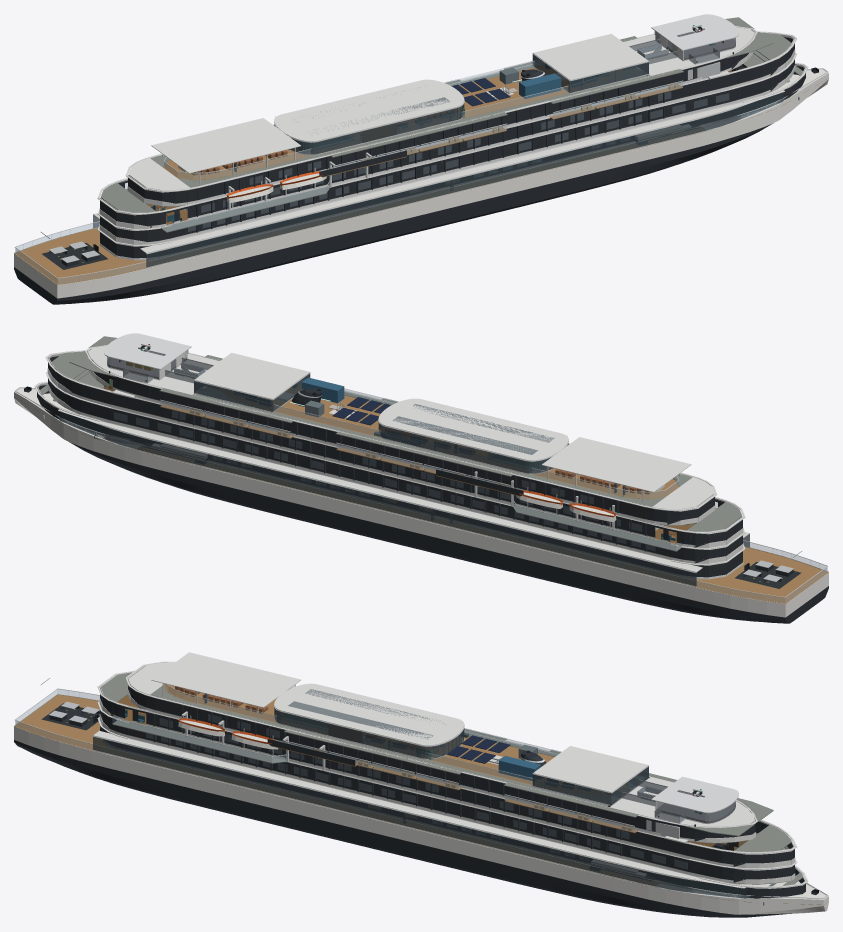
File: vessel_blender.glb
3 renders of one model, top to bottom at view 1: azimuth 30°, elevation 25°; view 2: azimuth 150°, elevation 25°; view 3: azimuth 330°, elevation 25°, orthographic.
Parts seen in each view (by area): view 1: корпус_надводный_борт, корпус_подводная_часть, галерея_остекление_л, остекление__средняя, остекление__верхняя, остекление__шлюпочная, атриум_крыша, настил_тик__главная, надстройка_борта__средняя, навес_кормовой, надстройка_борта__шлюпочная, галерея_крыша_л (+26 smaller); view 2: корпус_надводный_борт, корпус_подводная_часть, галерея_остекление_п, остекление__средняя, остекление__верхняя, остекление__шлюпочная, атриум_крыша, настил_тик__главная, надстройка_борта__средняя, навес_кормовой, надстройка_борта__шлюпочная, галерея_крыша_п (+27 smaller); view 3: корпус_надводный_борт, корпус_подводная_часть, галерея_остекление_л, остекление__средняя, остекление__шлюпочная, остекление__верхняя, атриум_крыша, надстройка_борта__средняя, настил_тик__главная, навес_кормовой, надстройка_борта__шлюпочная, галерея_крыша_л (+30 smaller).
Part boxes in pixels (bbox=[...]): корпус_надводный_борт: bbox=[14, 69, 828, 298]; корпус_подводная_часть: bbox=[14, 123, 773, 304]; галерея_остекление_л: bbox=[146, 92, 783, 267]; остекление__средняя: bbox=[100, 59, 794, 241]; остекление__верхняя: bbox=[128, 53, 748, 203]; остекление__шлюпочная: bbox=[100, 37, 794, 226]; атриум_крыша: bbox=[274, 79, 463, 141]; настил_тик__главная: bbox=[14, 78, 828, 284]; надстройка_борта__средняя: bbox=[97, 56, 808, 245]; навес_кормовой: bbox=[151, 118, 300, 173]; надстройка_борта__шлюпочная: bbox=[97, 32, 796, 230]; галерея_крыша_л: bbox=[140, 90, 784, 253]; корпус_надводный_борт: bbox=[14, 388, 828, 617]; корпус_подводная_часть: bbox=[69, 442, 828, 623]; галерея_остекление_п: bbox=[59, 411, 696, 586]; остекление__средняя: bbox=[48, 378, 742, 560]; остекление__верхняя: bbox=[94, 372, 714, 522]; остекление__шлюпочная: bbox=[48, 356, 742, 545]; атриум_крыша: bbox=[379, 398, 568, 460]; настил_тик__главная: bbox=[14, 397, 828, 603]; надстройка_борта__средняя: bbox=[34, 375, 745, 564]; навес_кормовой: bbox=[542, 437, 691, 492]; надстройка_борта__шлюпочная: bbox=[46, 353, 745, 548]; галерея_крыша_п: bbox=[58, 409, 702, 572]; корпус_надводный_борт: bbox=[14, 726, 828, 914]; корпус_подводная_часть: bbox=[14, 740, 791, 917]; галерея_остекление_л: bbox=[93, 737, 746, 898]; остекление__средняя: bbox=[100, 710, 794, 880]; остекление__шлюпочная: bbox=[100, 694, 794, 864]; остекление__верхняя: bbox=[128, 685, 755, 838]; атриум_крыша: bbox=[274, 683, 463, 745]; надстройка_борта__средняя: bbox=[97, 702, 807, 887]; настил_тик__главная: bbox=[14, 694, 824, 904]; навес_кормовой: bbox=[151, 652, 300, 707]; надстройка_борта__шлюпочная: bbox=[97, 674, 796, 869]; галерея_крыша_л: bbox=[93, 731, 745, 888].
Size of what is drawn, in the model's own units: 141 by 19.44 by 16.8.
